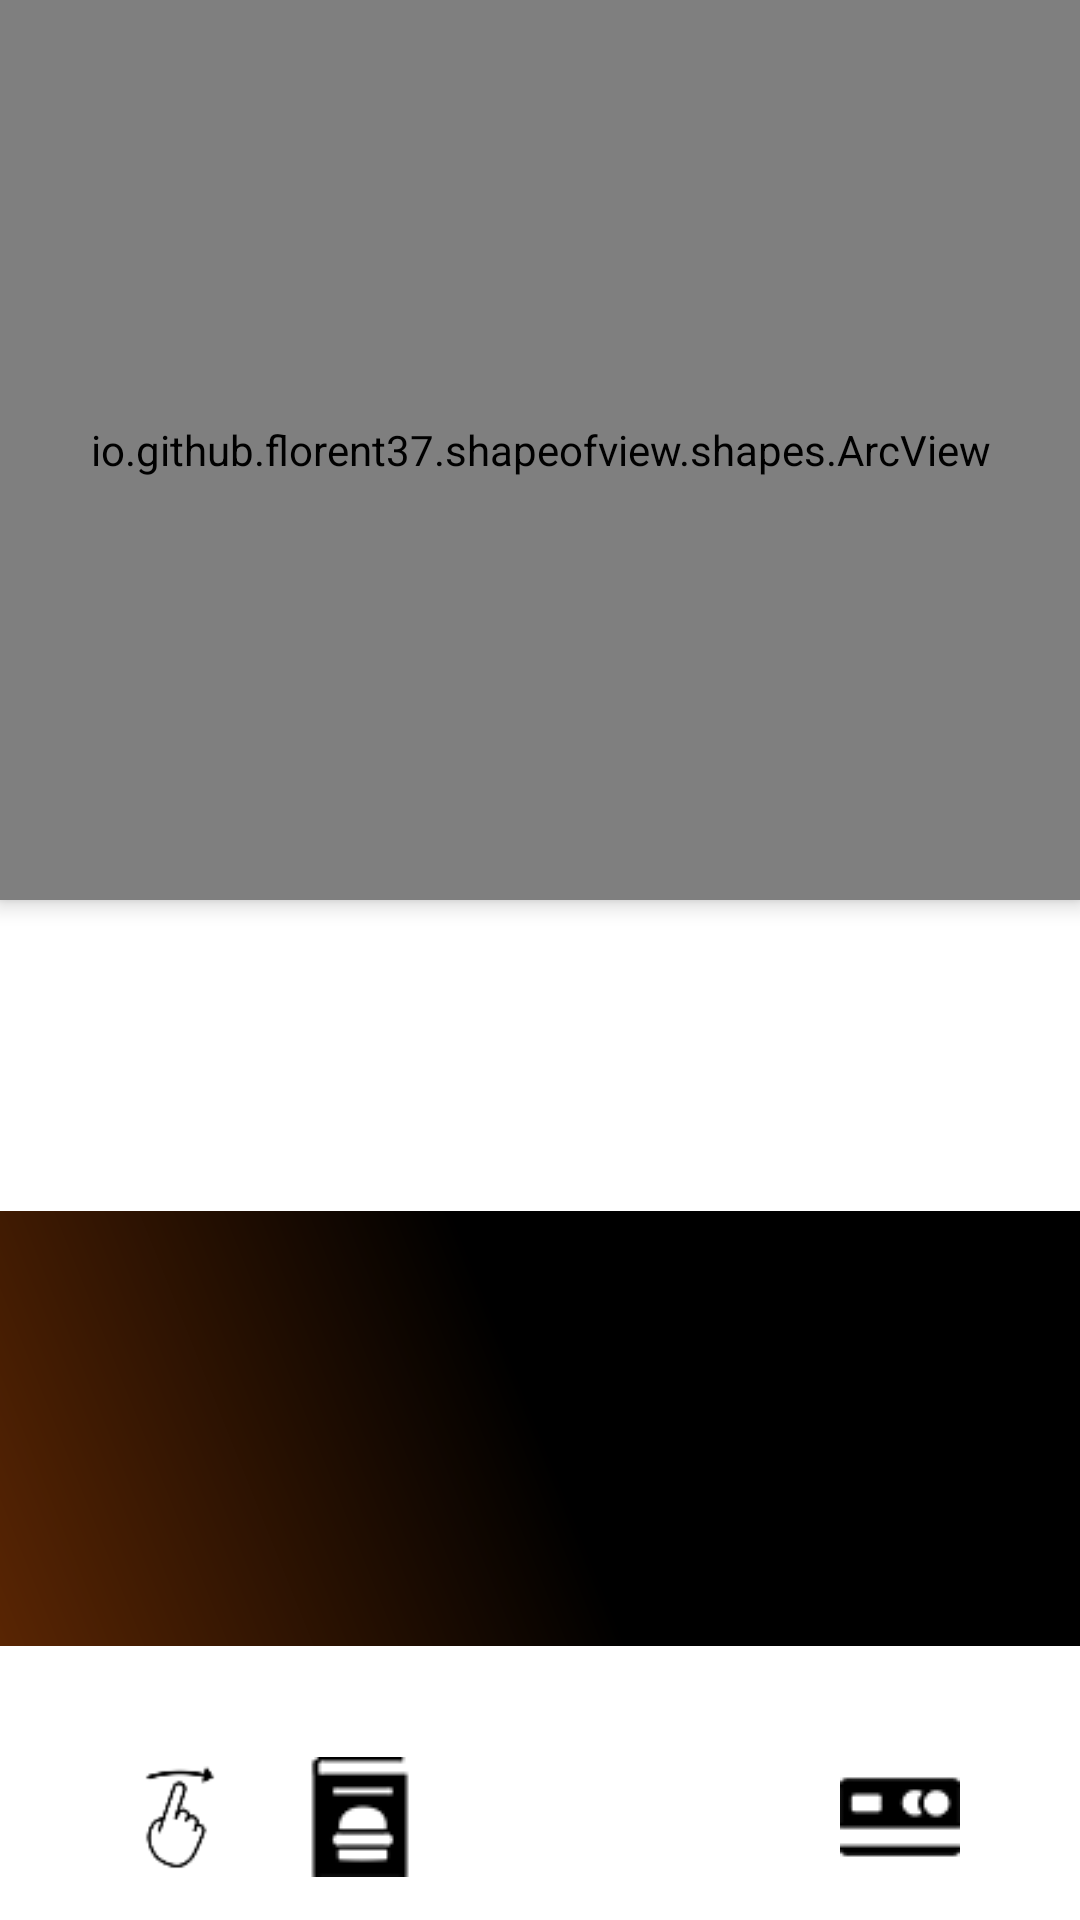

Icon bounding boxes for this 1080 × 1920 phone screenshot, format [left=x1, top=y1, right=x2, bottom=y2]:
creditcard: [left=840, top=1777, right=960, bottom=1857]
icoswipe: [left=146, top=1767, right=214, bottom=1868]
